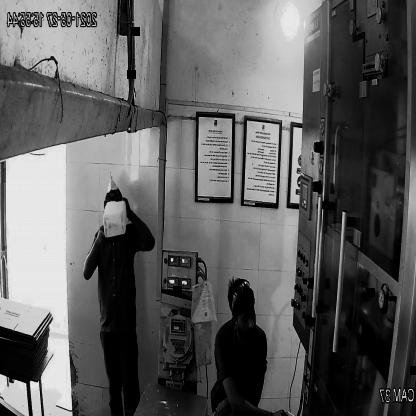no_goggles: (234, 306, 259, 327)
